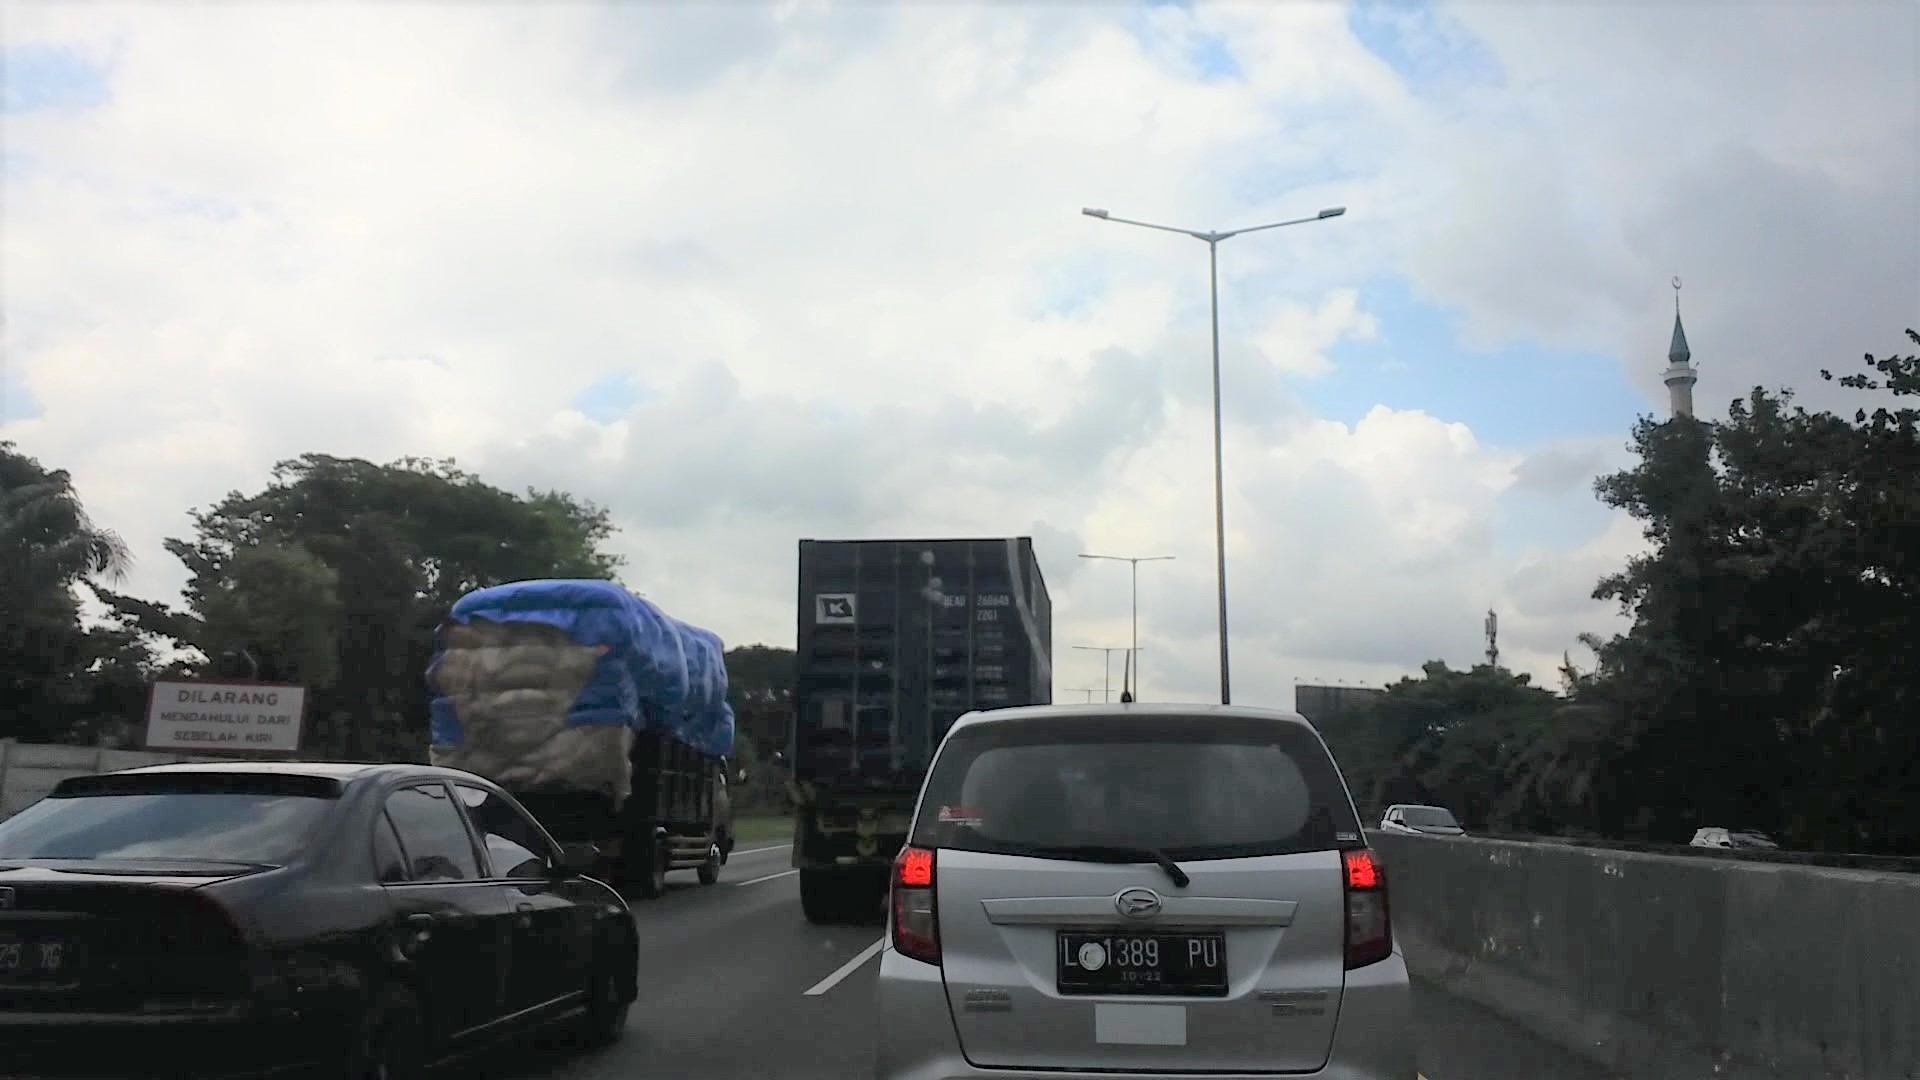plate_positive: (1056, 928, 1228, 997)
